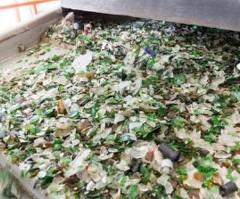glass: (0, 11, 240, 190)
